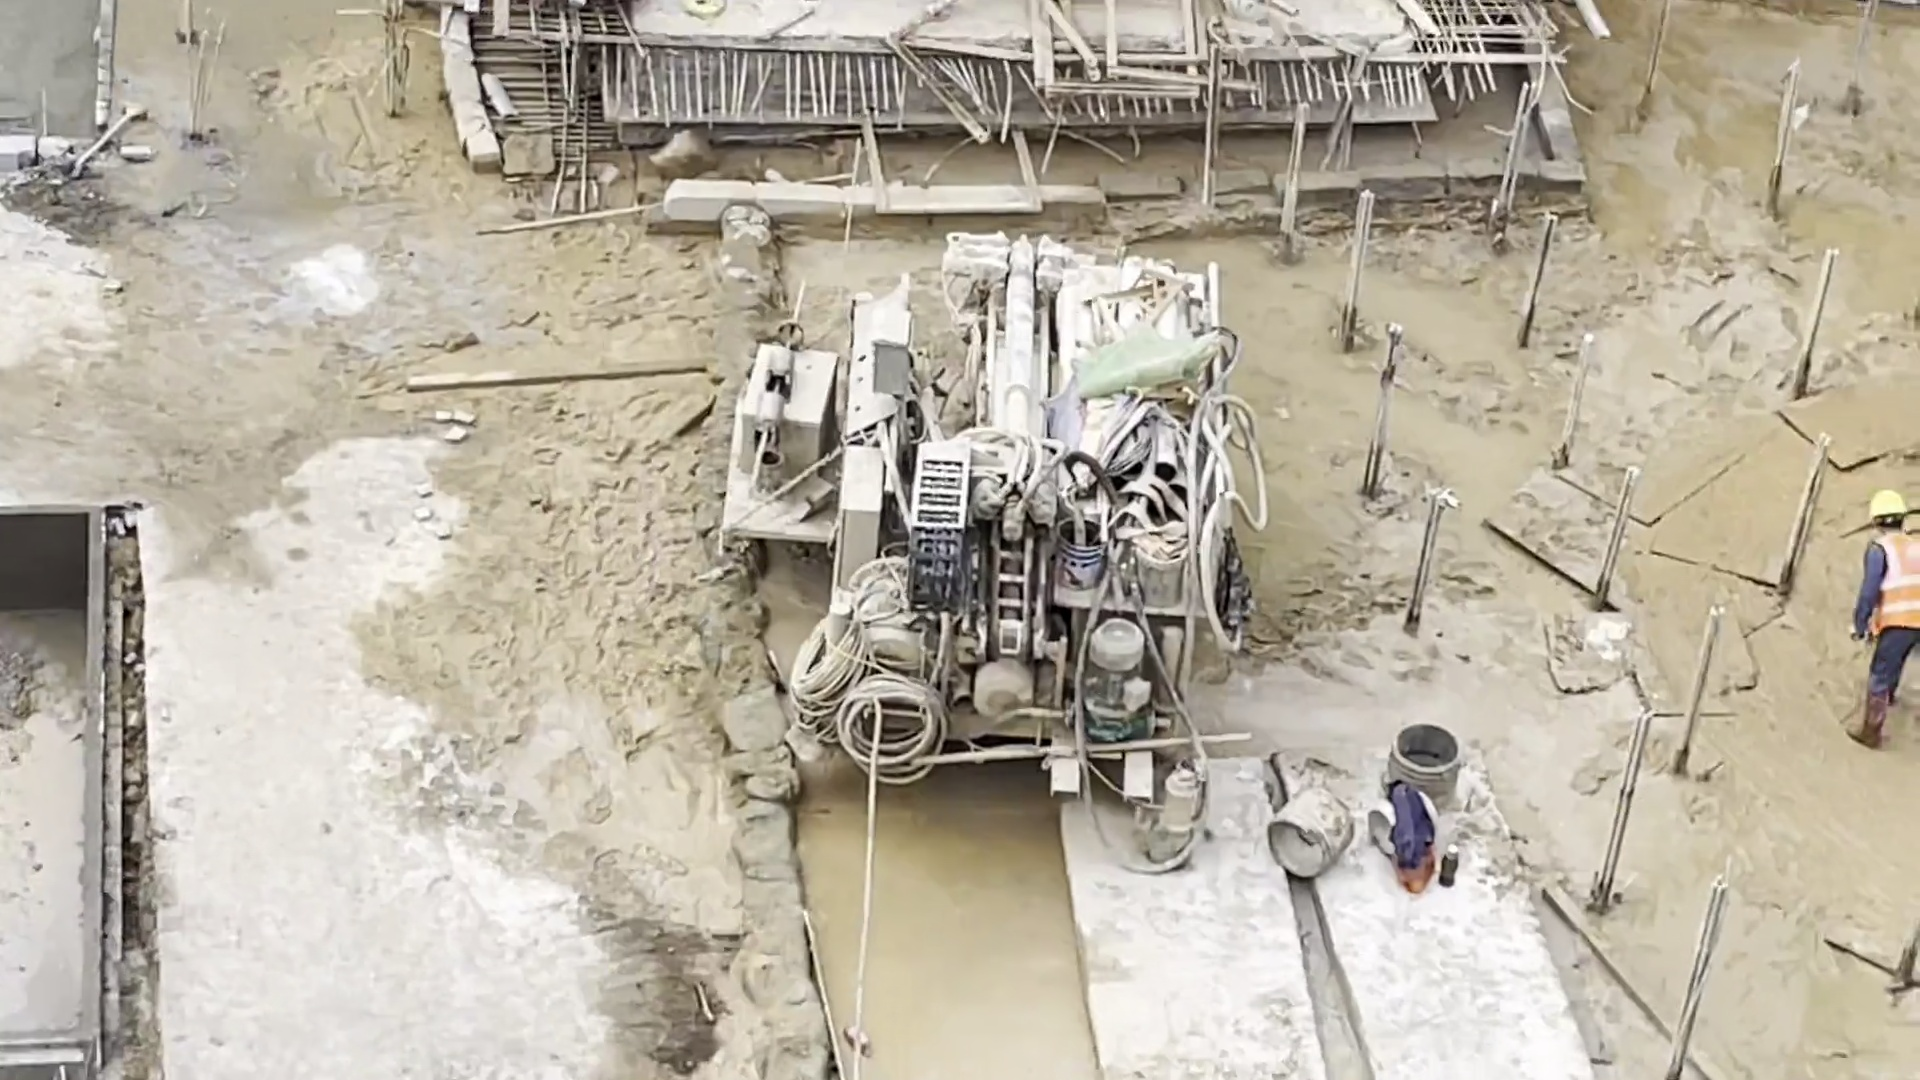helmet: (1865, 487, 1907, 521)
person: (1835, 487, 1920, 745)
vest: (1869, 530, 1920, 641)
